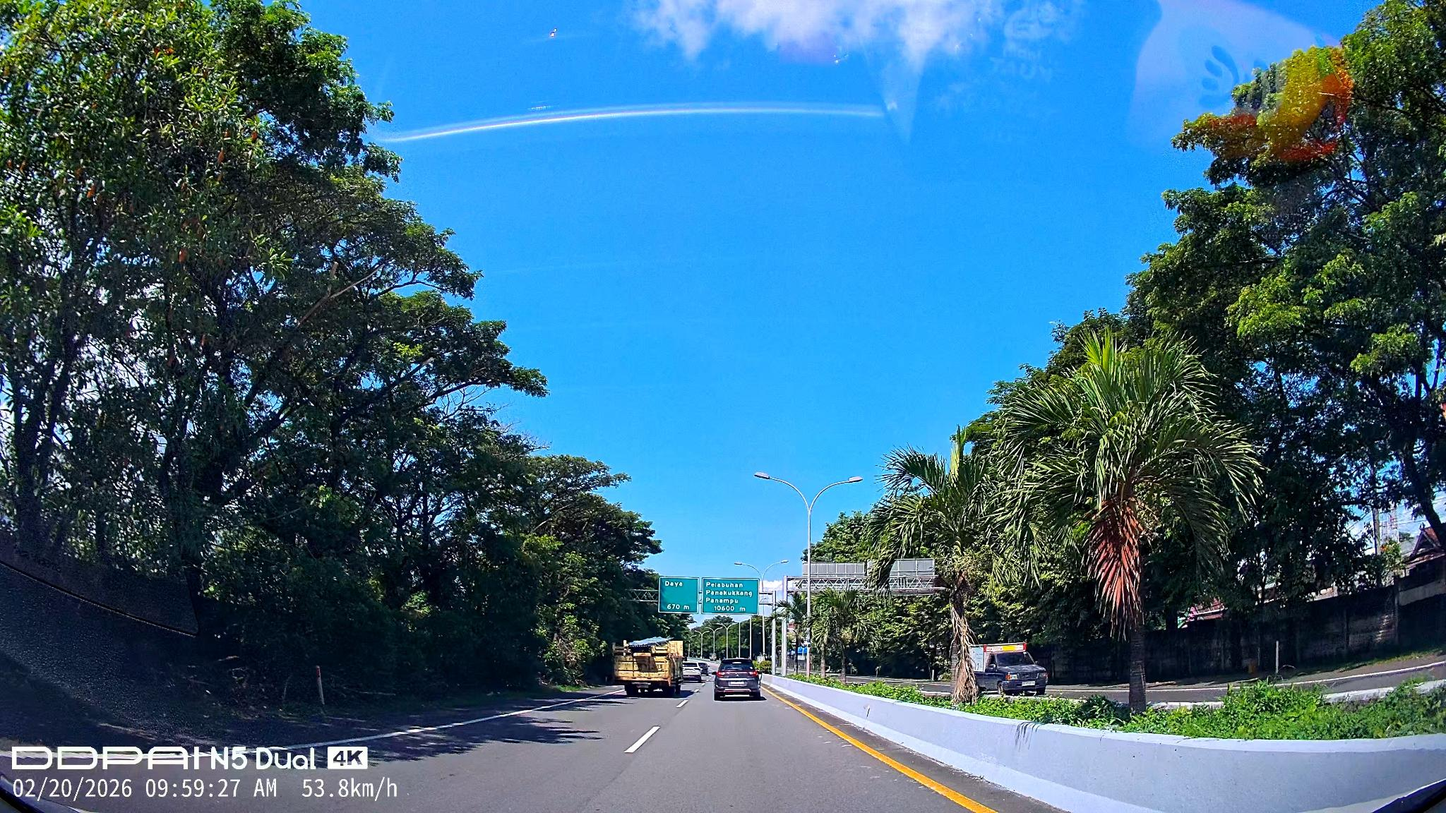rambu_teks: (701, 577, 759, 615), (658, 576, 700, 614)
